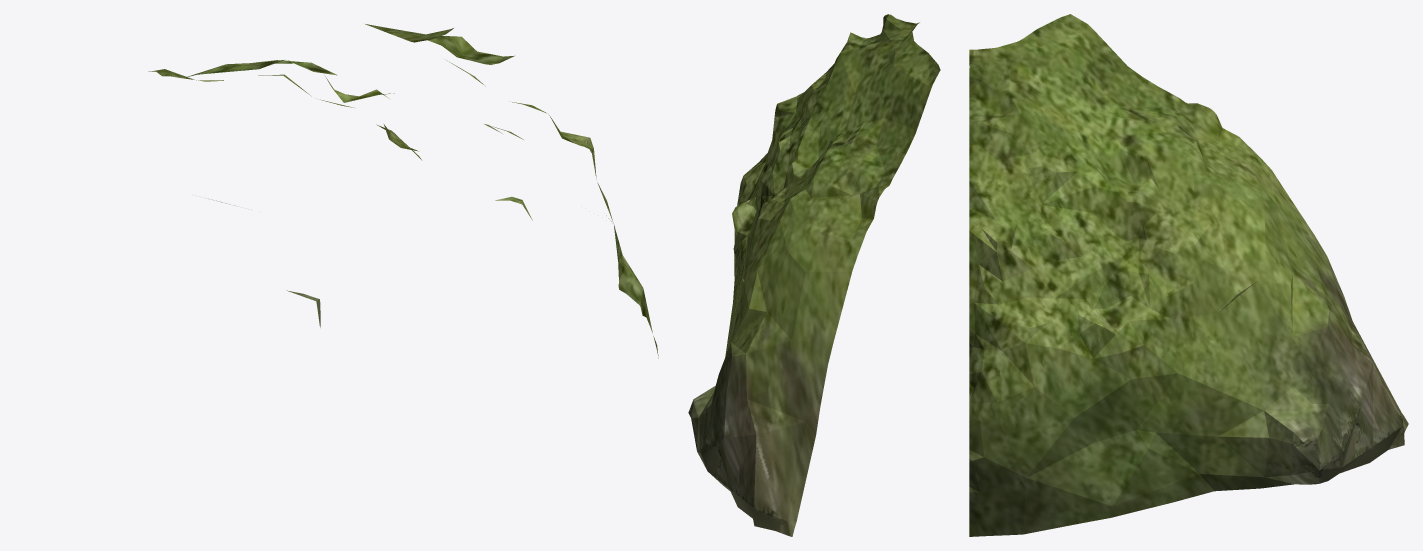
The picture shows the model from 3 angles, left to right: view 1: azimuth 30°, elevation 25°; view 2: azimuth 150°, elevation 25°; view 3: azimuth 270°, elevation 25°; orthographic projection. The views are drawn at different scales.
Size of the model in its own units: 1.99 by 2.95 by 2.87.
3 materials, 3 textured.
